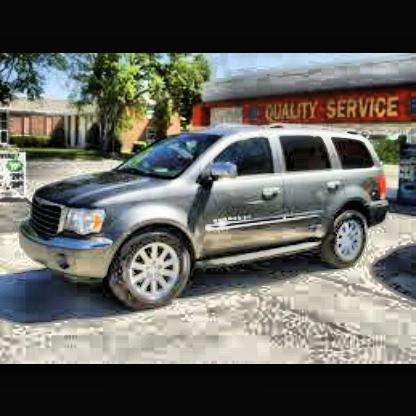Chrysler Aspen SUV 2009: (21, 112, 396, 320)
